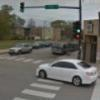crosswalks: (9, 78, 64, 100)
